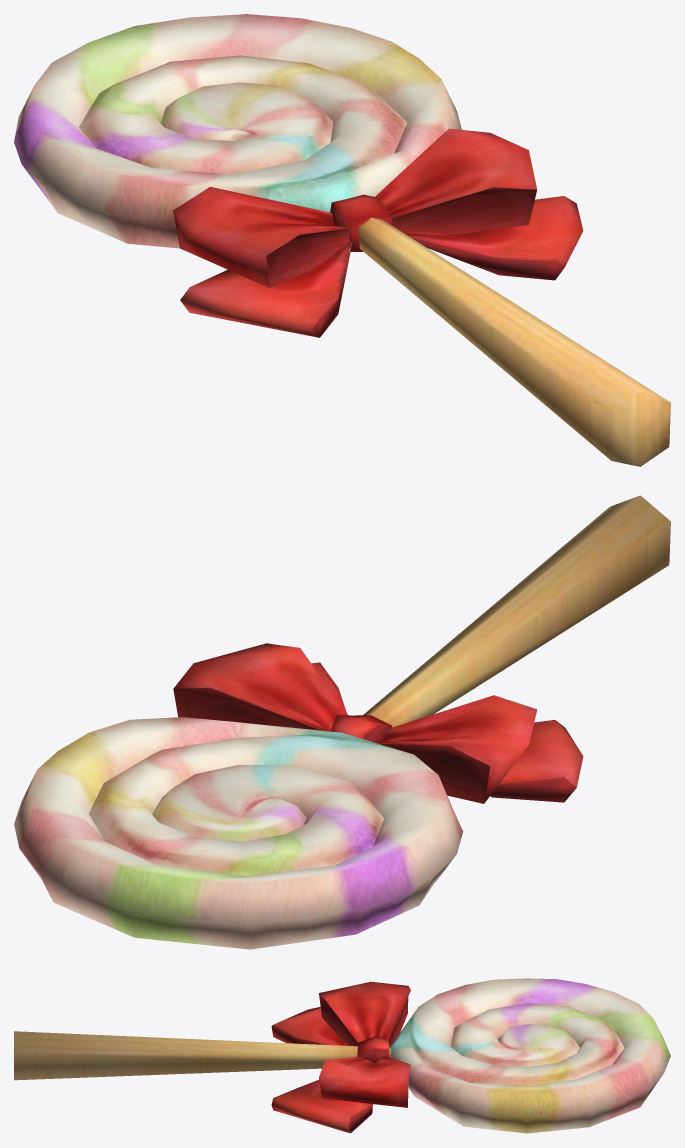
The model's file is wand_s_candy_candy.glb.
3 renders of one model, top to bottom at view 1: azimuth 30°, elevation 25°; view 2: azimuth 150°, elevation 25°; view 3: azimuth 270°, elevation 25°, orthographic. The views are drawn at different scales.
Size of the model in its own units: 0.2223 by 0.0437 by 0.4993.
Materials: 1 (1 with a texture image).
